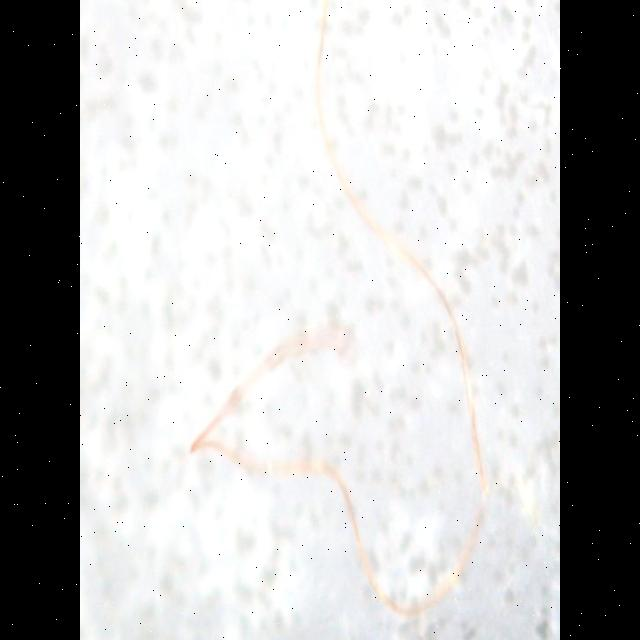Fibre: (189, 0, 491, 619)
